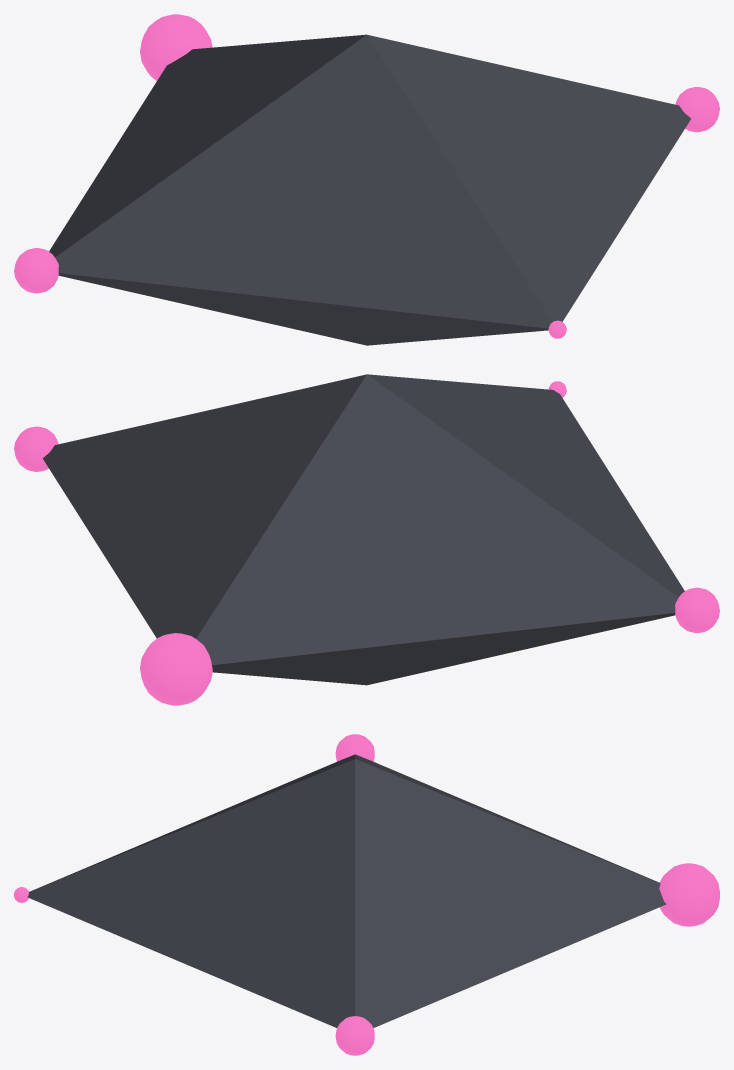
Rendered from diamond.glb.
3 renders of one model, top to bottom at view 1: azimuth 30°, elevation 25°; view 2: azimuth 150°, elevation 25°; view 3: azimuth 270°, elevation 25°, orthographic. The views are drawn at different scales.
Visible parts, largest first — view 1: hull_mesh, corners; view 2: hull_mesh, corners; view 3: hull_mesh, corners.
Boxes of the visible parts, x1=… form: hull_mesh: x1=49, y1=34, x2=690, y2=345; corners: x1=14, y1=14, x2=719, y2=338; hull_mesh: x1=43, y1=374, x2=684, y2=685; corners: x1=14, y1=381, x2=719, y2=705; hull_mesh: x1=27, y1=754, x2=666, y2=1027; corners: x1=14, y1=734, x2=719, y2=1055.
Size of the model in its own units: 20 by 8.49 by 19.97.
